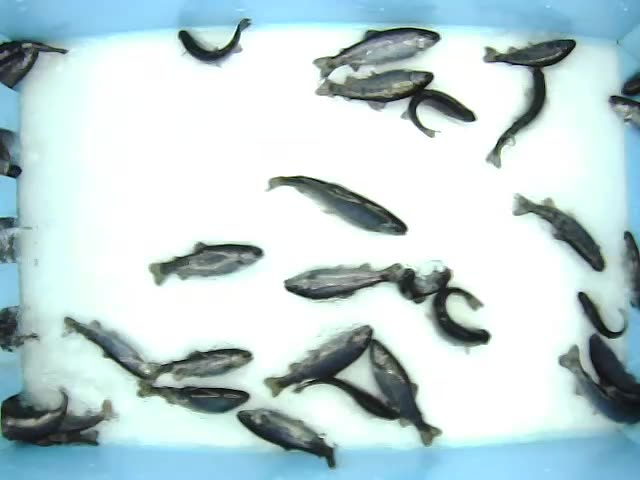fish: (263, 173, 409, 235), (367, 337, 444, 448), (263, 323, 375, 398), (511, 190, 607, 274), (312, 26, 440, 81), (484, 67, 551, 170), (231, 406, 339, 469), (60, 314, 153, 381), (147, 241, 267, 289), (313, 67, 436, 113), (420, 285, 492, 357), (282, 260, 403, 302), (290, 377, 402, 422), (135, 378, 251, 416), (177, 16, 254, 70), (399, 88, 479, 139), (146, 345, 255, 380), (481, 37, 578, 69), (576, 290, 630, 341)
